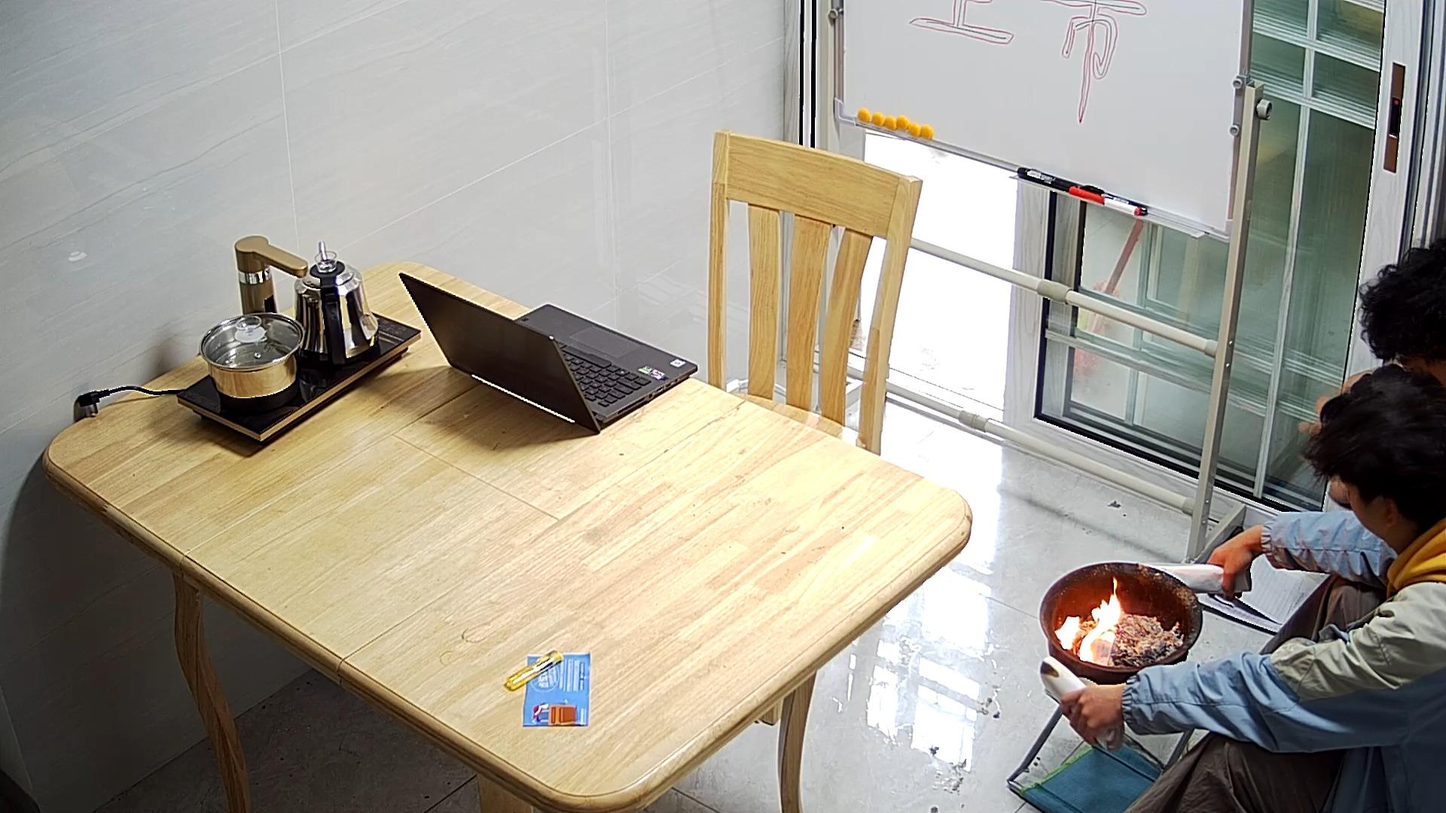fire: (1076, 595, 1121, 659)
